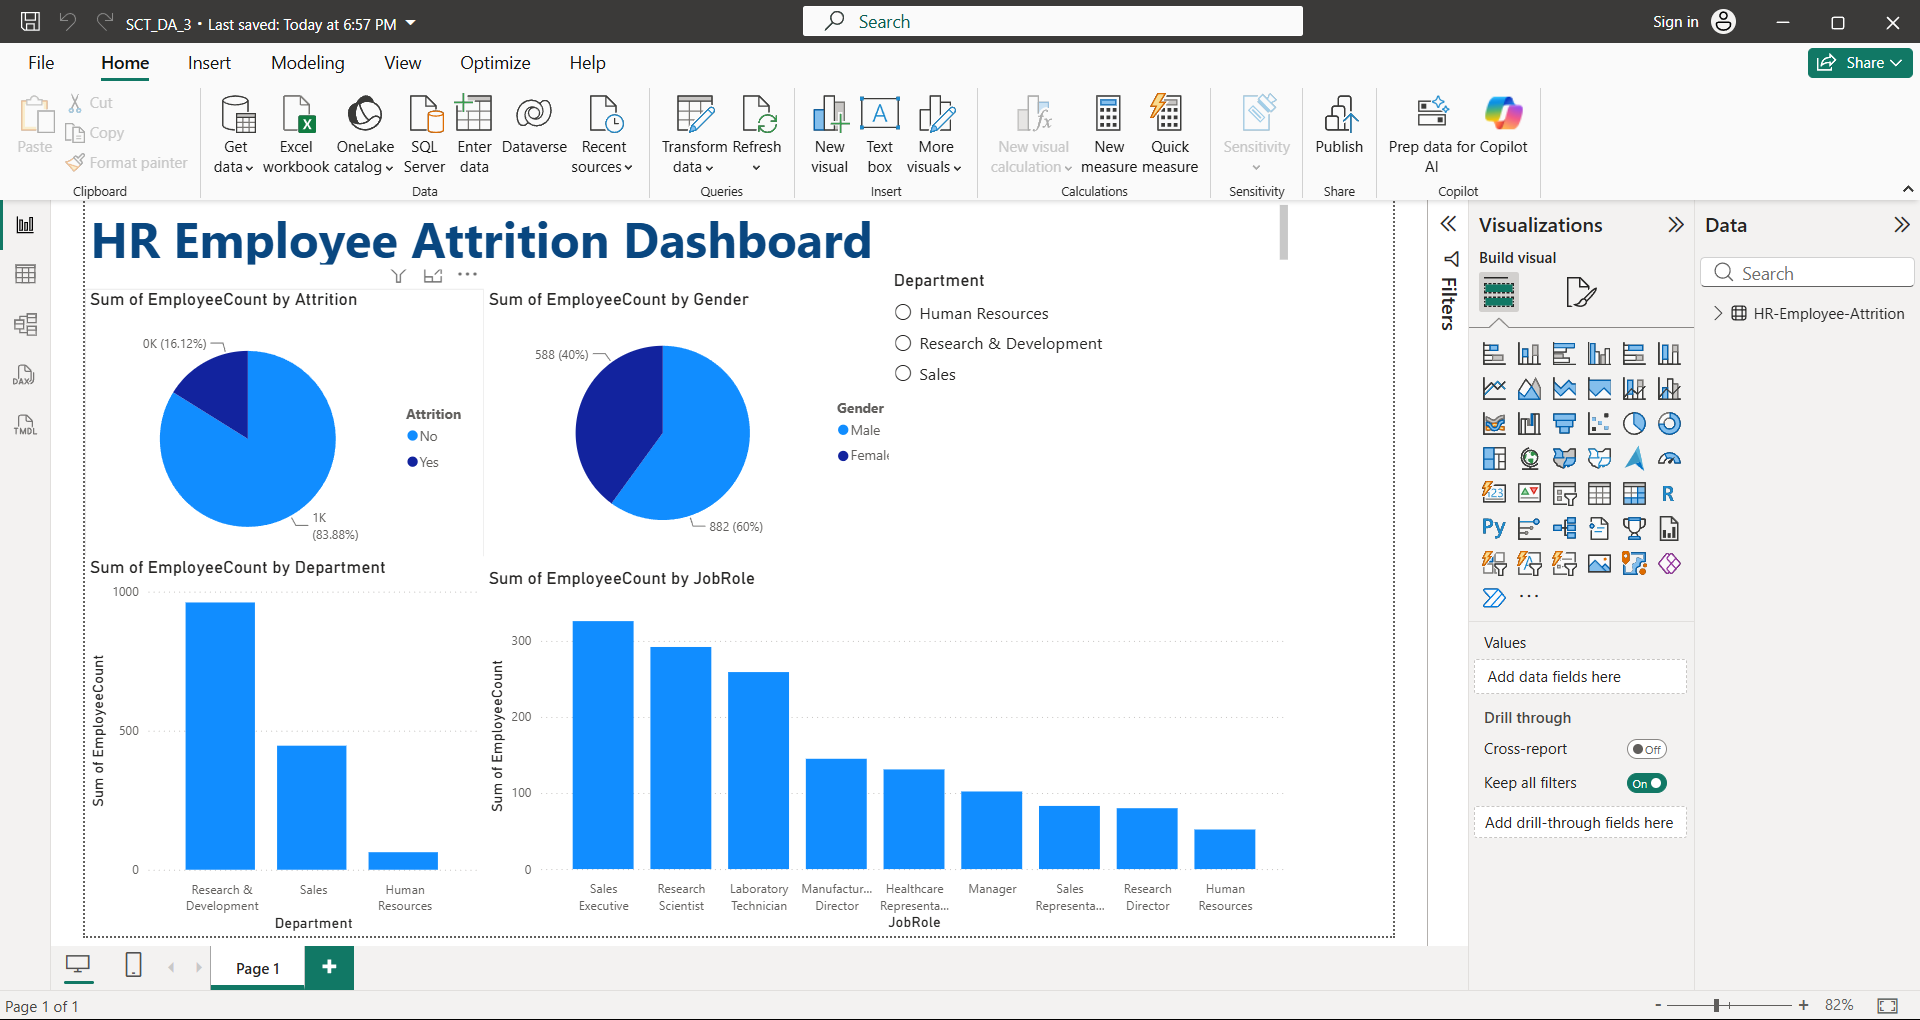

What the dashboard file says about the page in this screenshot:
{"tool":"powerbi","page":{"name":"Page 1","canvas":[1280,720],"ordinal":0},"visuals":[{"type":"pieChart","fields":{"Category":["HR-Employee-Attrition.Attrition"],"Y":["Sum(HR-Employee-Attrition.EmployeeCount)"]},"box":[0,86.7,390,273.3],"z":0},{"type":"clusteredColumnChart","fields":{"Y":["Sum(HR-Employee-Attrition.EmployeeCount)"],"Category":["HR-Employee-Attrition.Department"]},"box":[0,348.3,390,371.7],"z":1},{"type":"pieChart","fields":{"Category":["HR-Employee-Attrition.Gender"],"Y":["Sum(HR-Employee-Attrition.EmployeeCount)"]},"box":[390,86.7,416.7,261.7],"z":2},{"type":"clusteredColumnChart","fields":{"Category":["HR-Employee-Attrition.JobRole"],"Y":["Sum(HR-Employee-Attrition.EmployeeCount)"]},"box":[390,360,791.7,360],"z":3},{"type":"listSlicer","fields":{"Values":["HR-Employee-Attrition.Department"]},"box":[786.7,68.3,395,291.7],"z":5},{"type":"textbox","box":[0,0,1181.7,68.3],"z":6}]}

Visuals, with their boxes on the page's 1280x720 design canvas (x1, y1, x2, y2). These are canvas units, not pixel positions in the 1920x1020 screenshot, which may show the page scaled, cropped or inside an application window:
pieChart - HR-Employee-Attrition.Attrition x Sum(HR-Employee-Attrition.EmployeeCount): rect(0, 87, 390, 360)
clusteredColumnChart - Sum(HR-Employee-Attrition.EmployeeCount) x HR-Employee-Attrition.Department: rect(0, 348, 390, 720)
pieChart - HR-Employee-Attrition.Gender x Sum(HR-Employee-Attrition.EmployeeCount): rect(390, 87, 807, 348)
clusteredColumnChart - HR-Employee-Attrition.JobRole x Sum(HR-Employee-Attrition.EmployeeCount): rect(390, 360, 1182, 720)
listSlicer - HR-Employee-Attrition.Department: rect(787, 68, 1182, 360)
textbox: rect(0, 0, 1182, 68)
